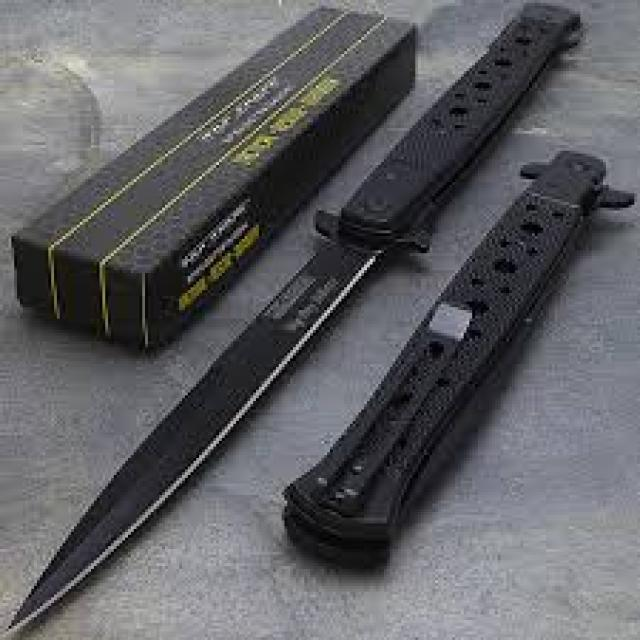knives: (7, 6, 574, 629)
